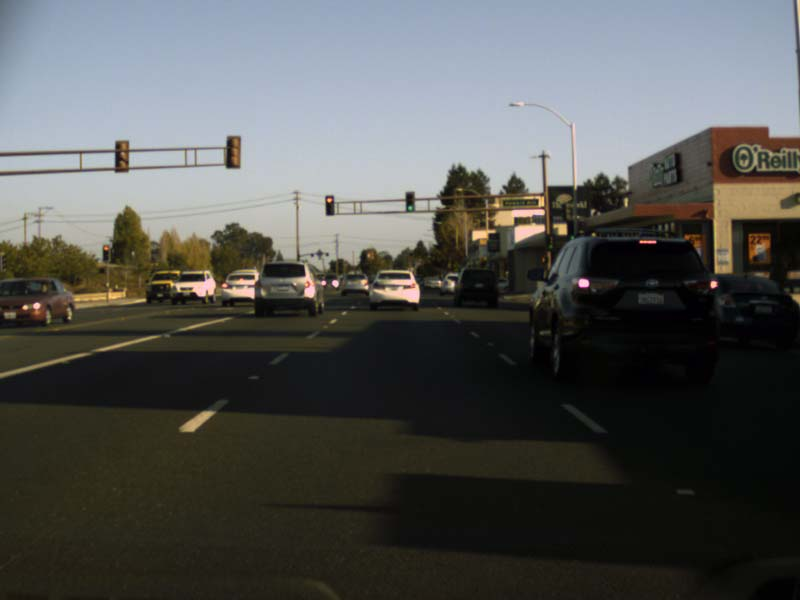Green: (405, 191, 414, 211), (566, 221, 574, 240), (545, 235, 554, 249)
Red: (324, 195, 334, 214), (103, 244, 109, 261)
